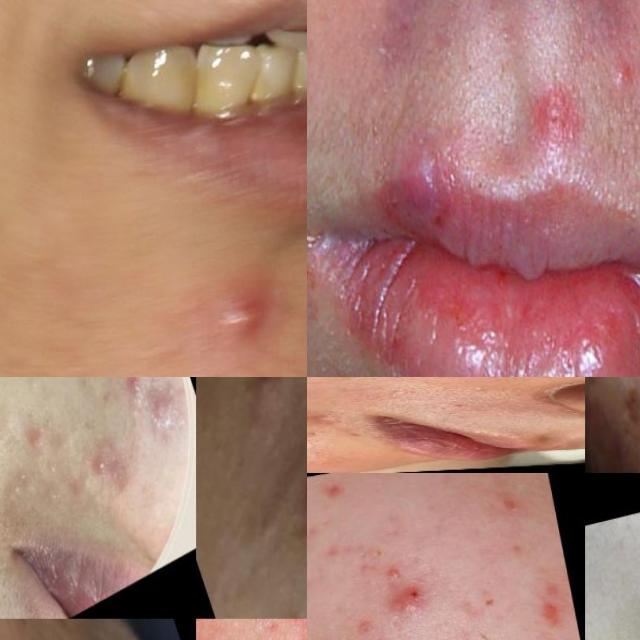acne_scars: (533, 594, 566, 638)
comedone: (0, 456, 40, 506), (117, 377, 153, 405), (307, 426, 327, 438)
cystic: (227, 377, 307, 438)
papule: (520, 81, 590, 164), (383, 573, 437, 619), (281, 457, 307, 543), (103, 449, 143, 504), (25, 413, 60, 456), (151, 383, 181, 429), (89, 446, 115, 484), (307, 409, 357, 426)
